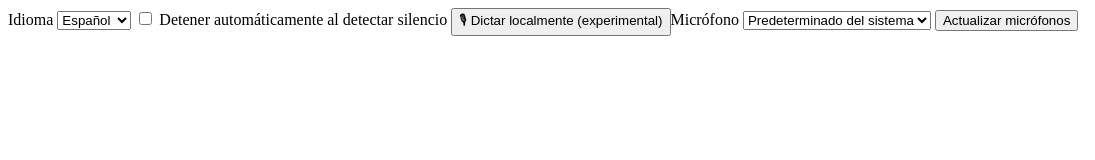
Scenario: local dictation interaction › selects Hebrew transcription, scopes RTL to dictation, and locks language during recording
Select "עברית" in the dropdown labelled "Idioma" at (94, 20), box 57,11 -> 131,30
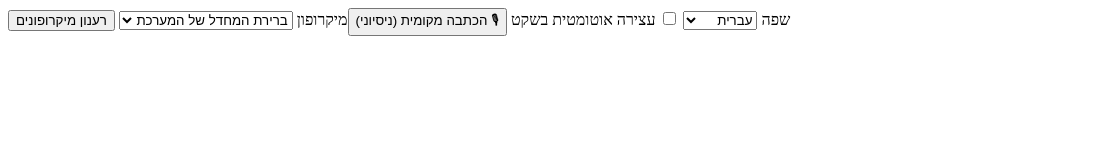
Click the button "🎙 הכתבה מקומית (ניסיוני)".
click(427, 22)  # box 348,8 -> 507,36
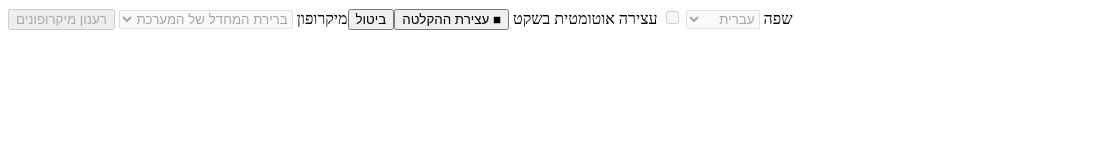
Expected: the dropdown labelled "שפה" is disabled, 686,10 -> 760,29
Click the button "■ עצירת ההקלטה".
click(452, 20)  # box 394,9 -> 509,30
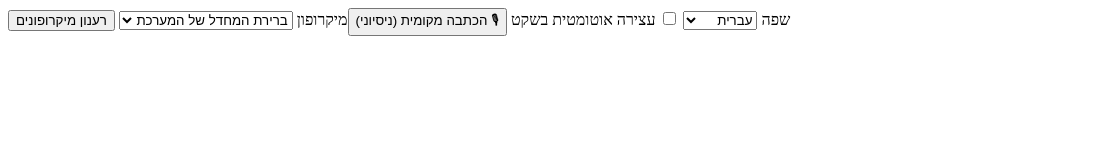
Expected: the dropdown labelled "שפה" is enabled, 684,11 -> 758,30
